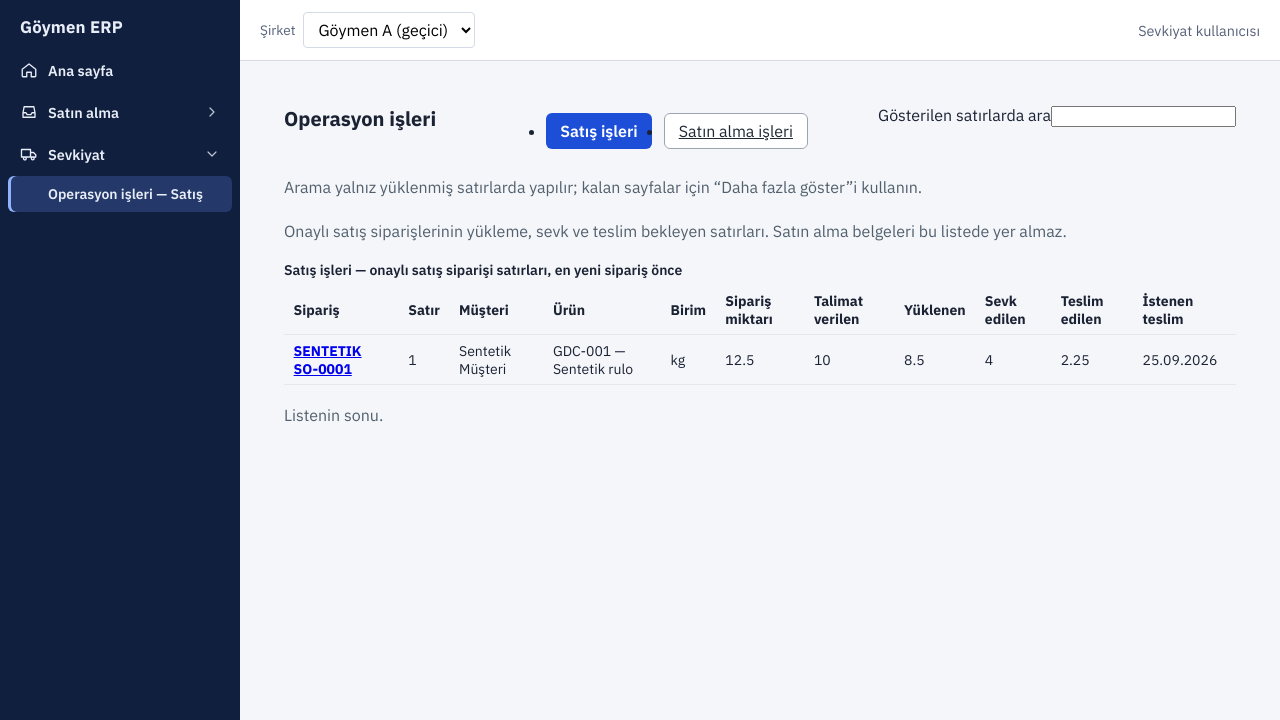
Test: AT-025 Operasyon işleri › switching to the purchase section reads the purchase route only and no sales row appears in it
Click the link with test id "operations-tab-purchase": point(736, 131) [664,113,808,149]
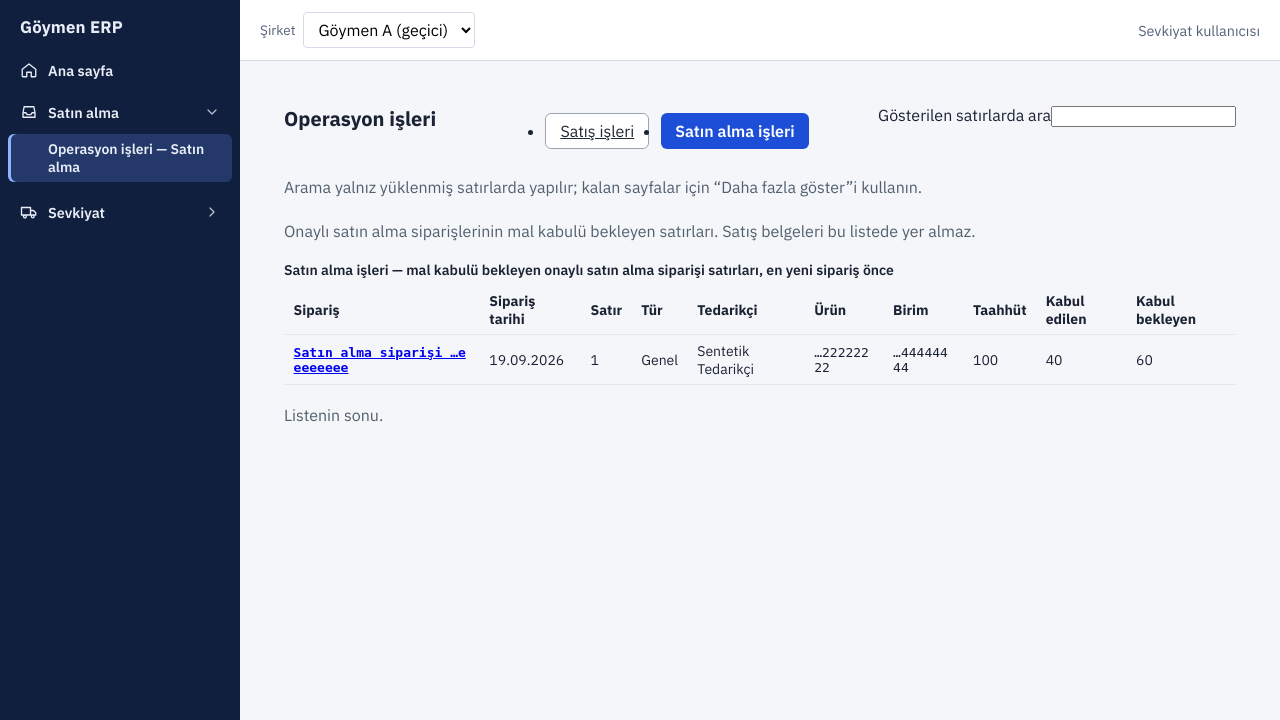
Expected: the link "SENTETIK SO-0001" is gone
Expected: the table with test id "operations-sales-table" is gone
Expected: the text with test id "operations-section-intro" shows "Onaylı satın alma siparişlerinin mal kabulü bekleyen satırları. Satış belgeleri bu listede yer almaz.", [284,221,976,241]
